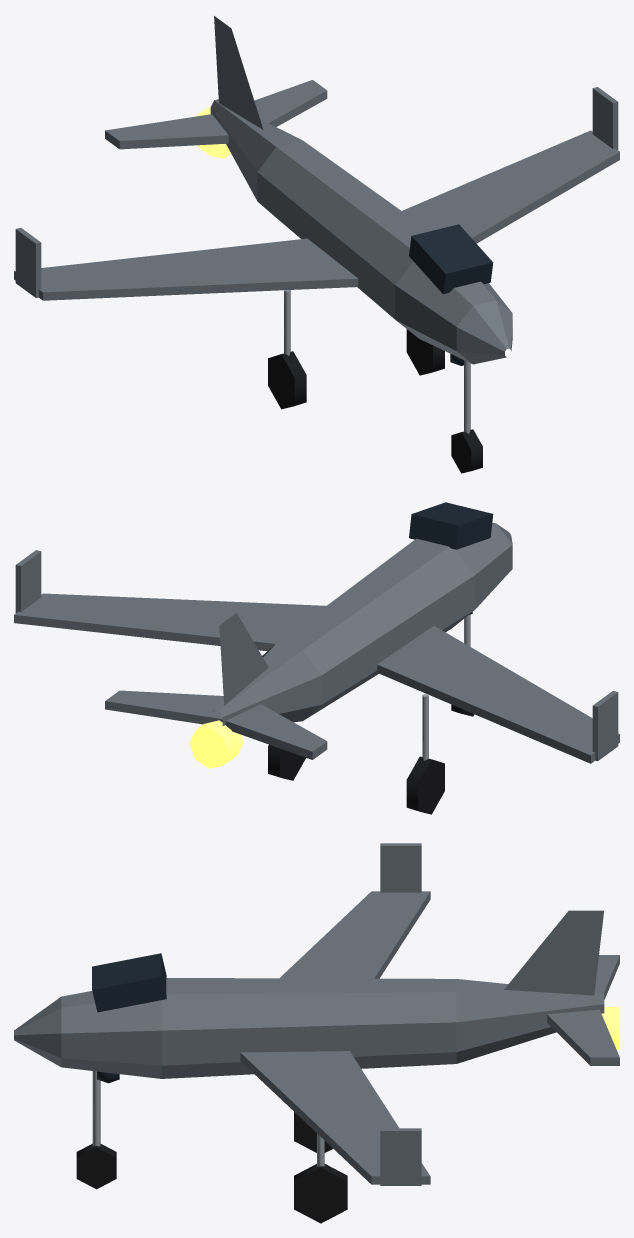
File: veh_air_fighter_a08.glb
The picture shows the model from 3 angles, top to bottom: view 1: azimuth 30°, elevation 25°; view 2: azimuth 150°, elevation 25°; view 3: azimuth 270°, elevation 25°; orthographic projection.
Parts seen in each view (by area): view 1: body, gear_1, gear_0, gear_2; view 2: body, gear_1, gear_2; view 3: body, gear_2, gear_0, gear_1.
Part boxes in pixels (bbox=[...]): body: bbox=[14, 16, 619, 365]; gear_1: bbox=[268, 290, 306, 409]; gear_0: bbox=[451, 360, 482, 473]; gear_2: bbox=[406, 329, 444, 375]; body: bbox=[14, 502, 619, 768]; gear_1: bbox=[406, 694, 444, 814]; gear_2: bbox=[268, 744, 305, 780]; body: bbox=[14, 843, 619, 1185]; gear_2: bbox=[294, 1133, 347, 1223]; gear_0: bbox=[76, 1071, 116, 1189]; gear_1: bbox=[294, 1112, 332, 1152].
Size of what is drawn, in the model's own units: 8.8 by 3.95 by 7.83.
